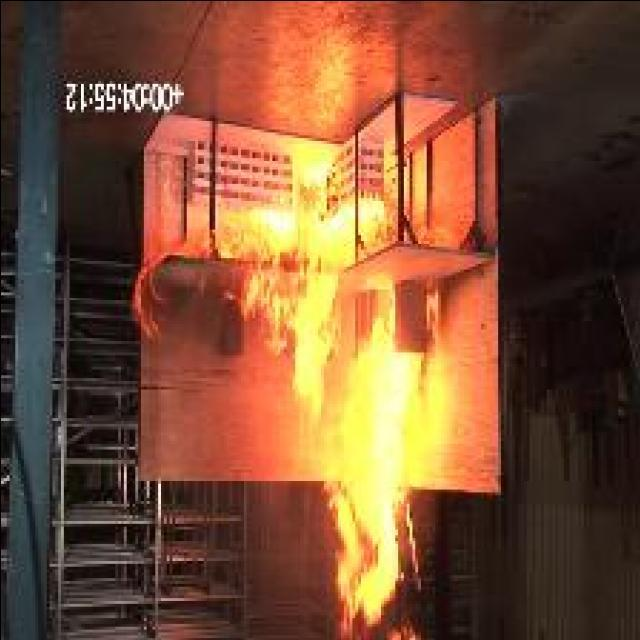Fire: (212, 158, 388, 422), (329, 286, 426, 640)
